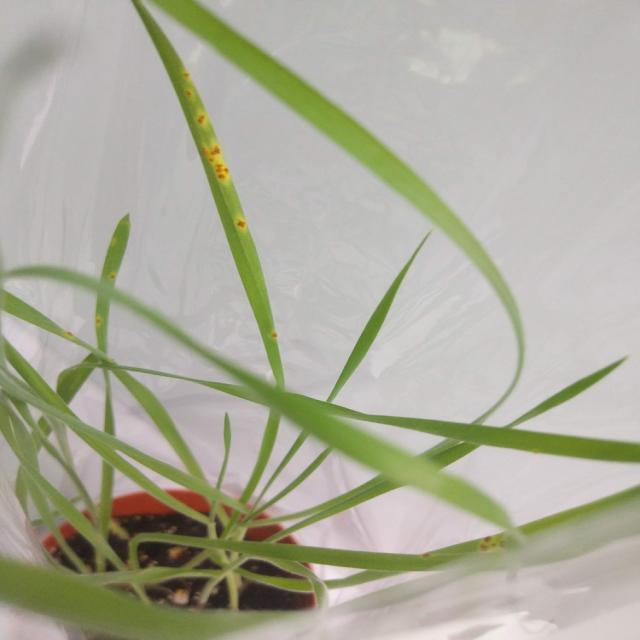wheat-stemrust: (132, 0, 283, 383), (421, 495, 637, 559)
